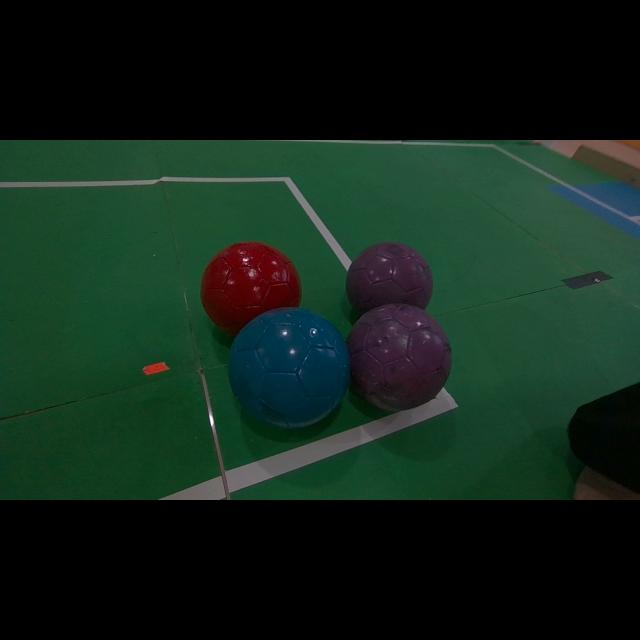B: (229, 308, 350, 428)
P: (348, 304, 451, 411), (346, 242, 432, 313)
R: (201, 241, 301, 336)
